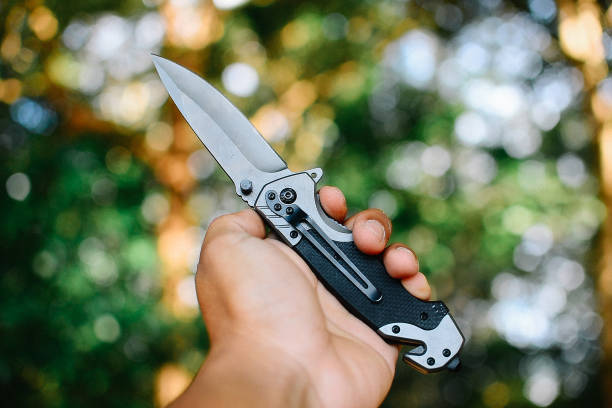knife: (146, 50, 467, 376)
